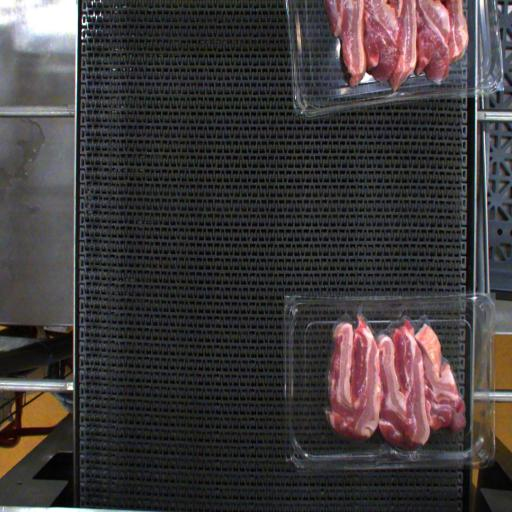unsealed: (325, 306, 447, 349)
